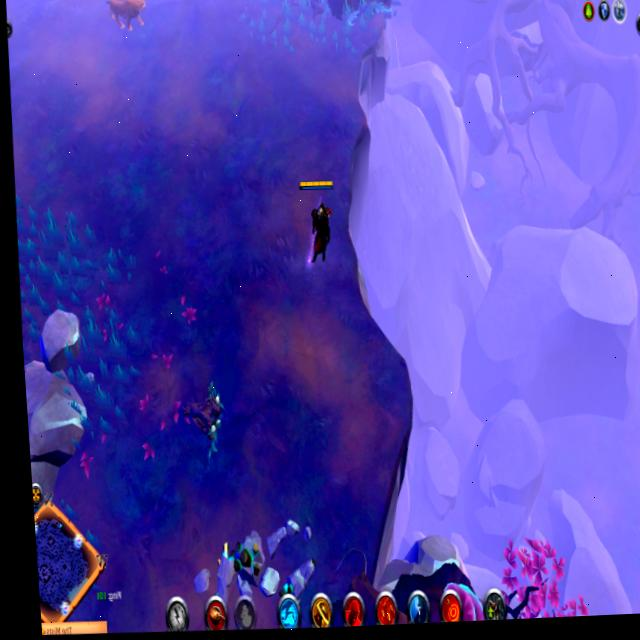hide: (179, 374, 226, 455)
ore: (102, 0, 153, 40)
red: (293, 170, 345, 272)
tree: (194, 502, 319, 617)
